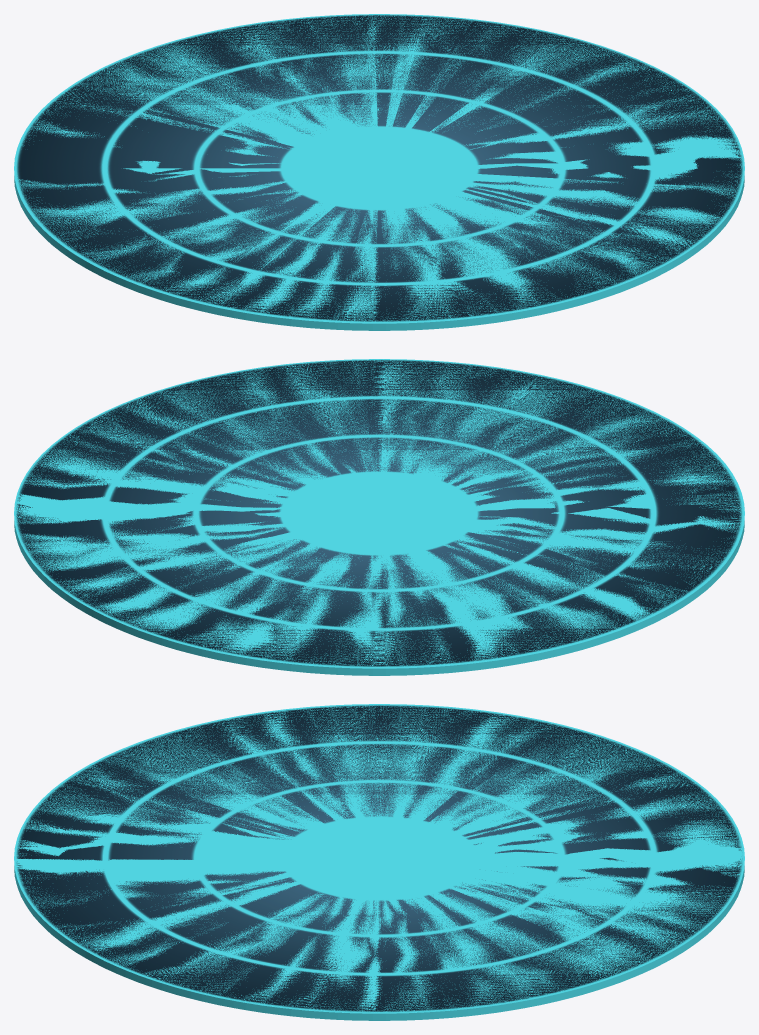
Rendered from Lock_Picking_Puzzle_Full_000.fbx.
The picture shows the model from 3 angles, top to bottom: view 1: azimuth 30°, elevation 25°; view 2: azimuth 150°, elevation 25°; view 3: azimuth 270°, elevation 25°; orthographic projection.
Visible parts, largest first — view 1: BG_03, Ring_03_Touch_Control, Ring_02_Touch_Control, Ring_01_Touch_Control, Ring_03; view 2: BG_03, Ring_03_Touch_Control, Ring_02_Touch_Control, Ring_01_Touch_Control, Ring_03; view 3: BG_03, Ring_03_Touch_Control, Ring_02_Touch_Control, Ring_01_Touch_Control, Ring_03.
Part boxes in pixels (left/top/right/bottom): BG_03: left=14, top=14, right=744, bottom=322; Ring_03_Touch_Control: left=14, top=14, right=744, bottom=322; Ring_02_Touch_Control: left=105, top=53, right=652, bottom=283; Ring_01_Touch_Control: left=197, top=91, right=560, bottom=245; Ring_03: left=14, top=175, right=744, bottom=330; BG_03: left=14, top=359, right=744, bottom=667; Ring_03_Touch_Control: left=14, top=359, right=744, bottom=667; Ring_02_Touch_Control: left=107, top=398, right=653, bottom=628; Ring_01_Touch_Control: left=197, top=436, right=561, bottom=590; Ring_03: left=14, top=520, right=744, bottom=675; BG_03: left=14, top=704, right=744, bottom=1012; Ring_03_Touch_Control: left=14, top=704, right=744, bottom=1012; Ring_02_Touch_Control: left=105, top=743, right=652, bottom=973; Ring_01_Touch_Control: left=202, top=781, right=560, bottom=935; Ring_03: left=14, top=865, right=744, bottom=1020.
Size of what is drawn, in the model's own units: 727 by 37.46 by 727.
